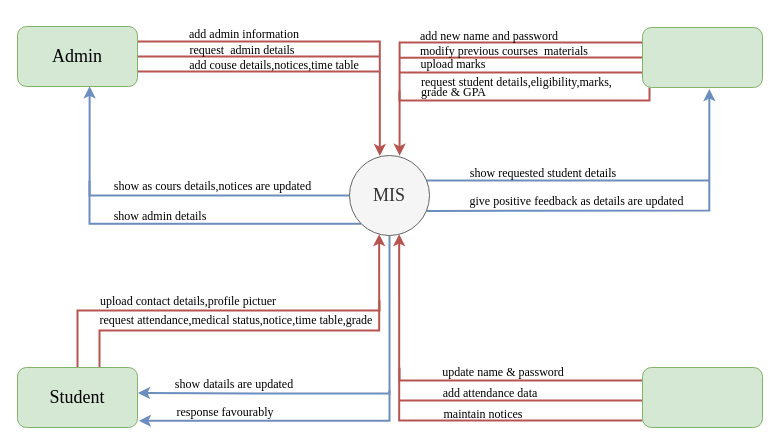
Some shapes in this 780 by 447 pixel diagram are drawn without their labels. Here are the shapes that lost their labels. From the top down, the centre of each, then its label:
[702,57]: Lectuer
[702,397]: Technical Officer
